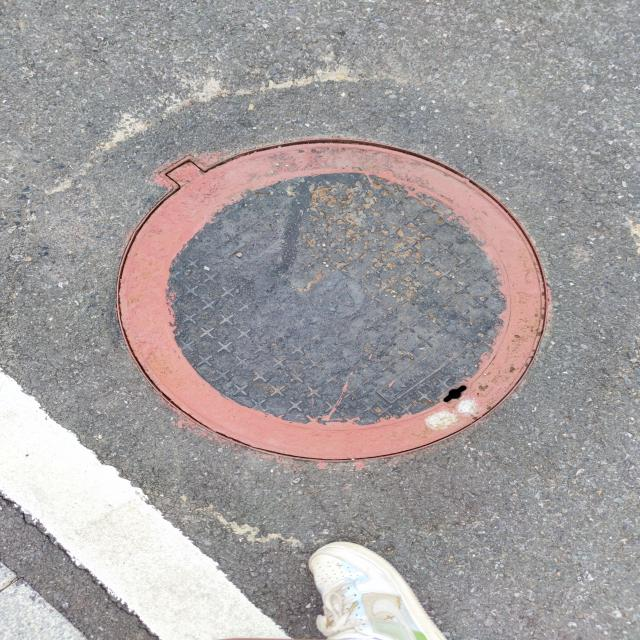Good: (109, 136, 556, 463)
